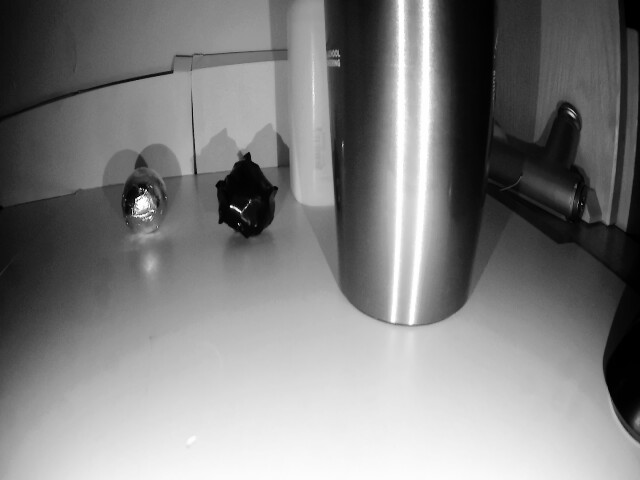black: (114, 167, 167, 231)
silver: (210, 162, 290, 238)
